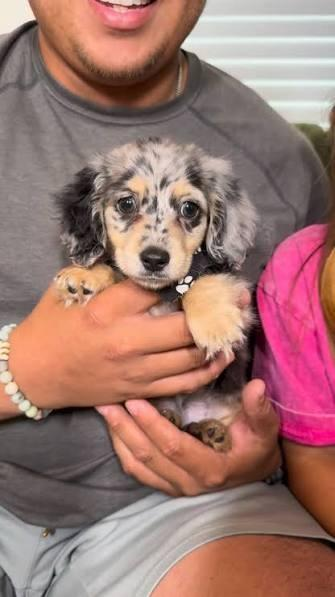puppy-dog: (40, 136, 252, 451)
